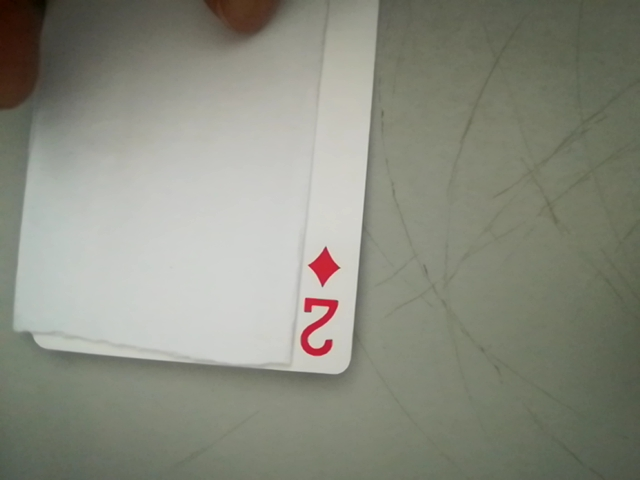fk 2: (284, 240, 354, 366)
